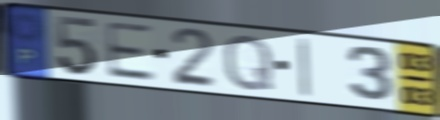2: (168, 26, 219, 90)
3: (343, 44, 395, 104)
5: (53, 12, 100, 78)
E: (102, 18, 159, 83)
I: (296, 36, 314, 100)
Q: (222, 32, 277, 93)
